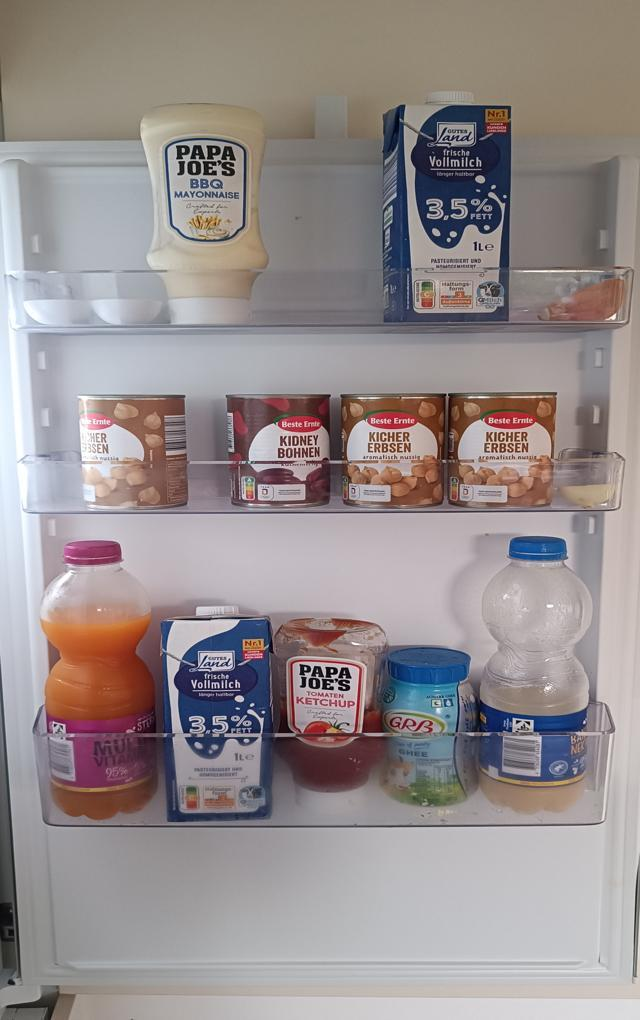bananajuice: (477, 537, 594, 814)
chickpeas: (342, 390, 445, 510), (80, 395, 188, 508), (454, 394, 556, 511)
ghee: (379, 646, 480, 811)
kidneybeans: (227, 391, 327, 510)
mayoniasie: (140, 98, 270, 325)
milk: (386, 86, 514, 327), (158, 605, 278, 821)
orangejuice: (37, 540, 163, 824)
tomatoketchup: (276, 613, 381, 806)
